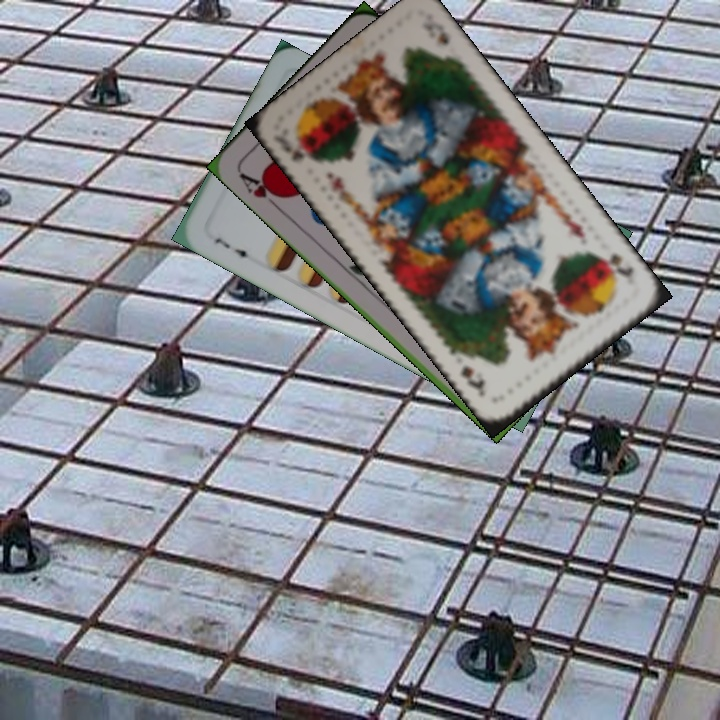E7: (210, 233, 255, 265)
HA: (235, 168, 288, 213)
SK: (594, 248, 637, 288), (281, 142, 320, 167)
